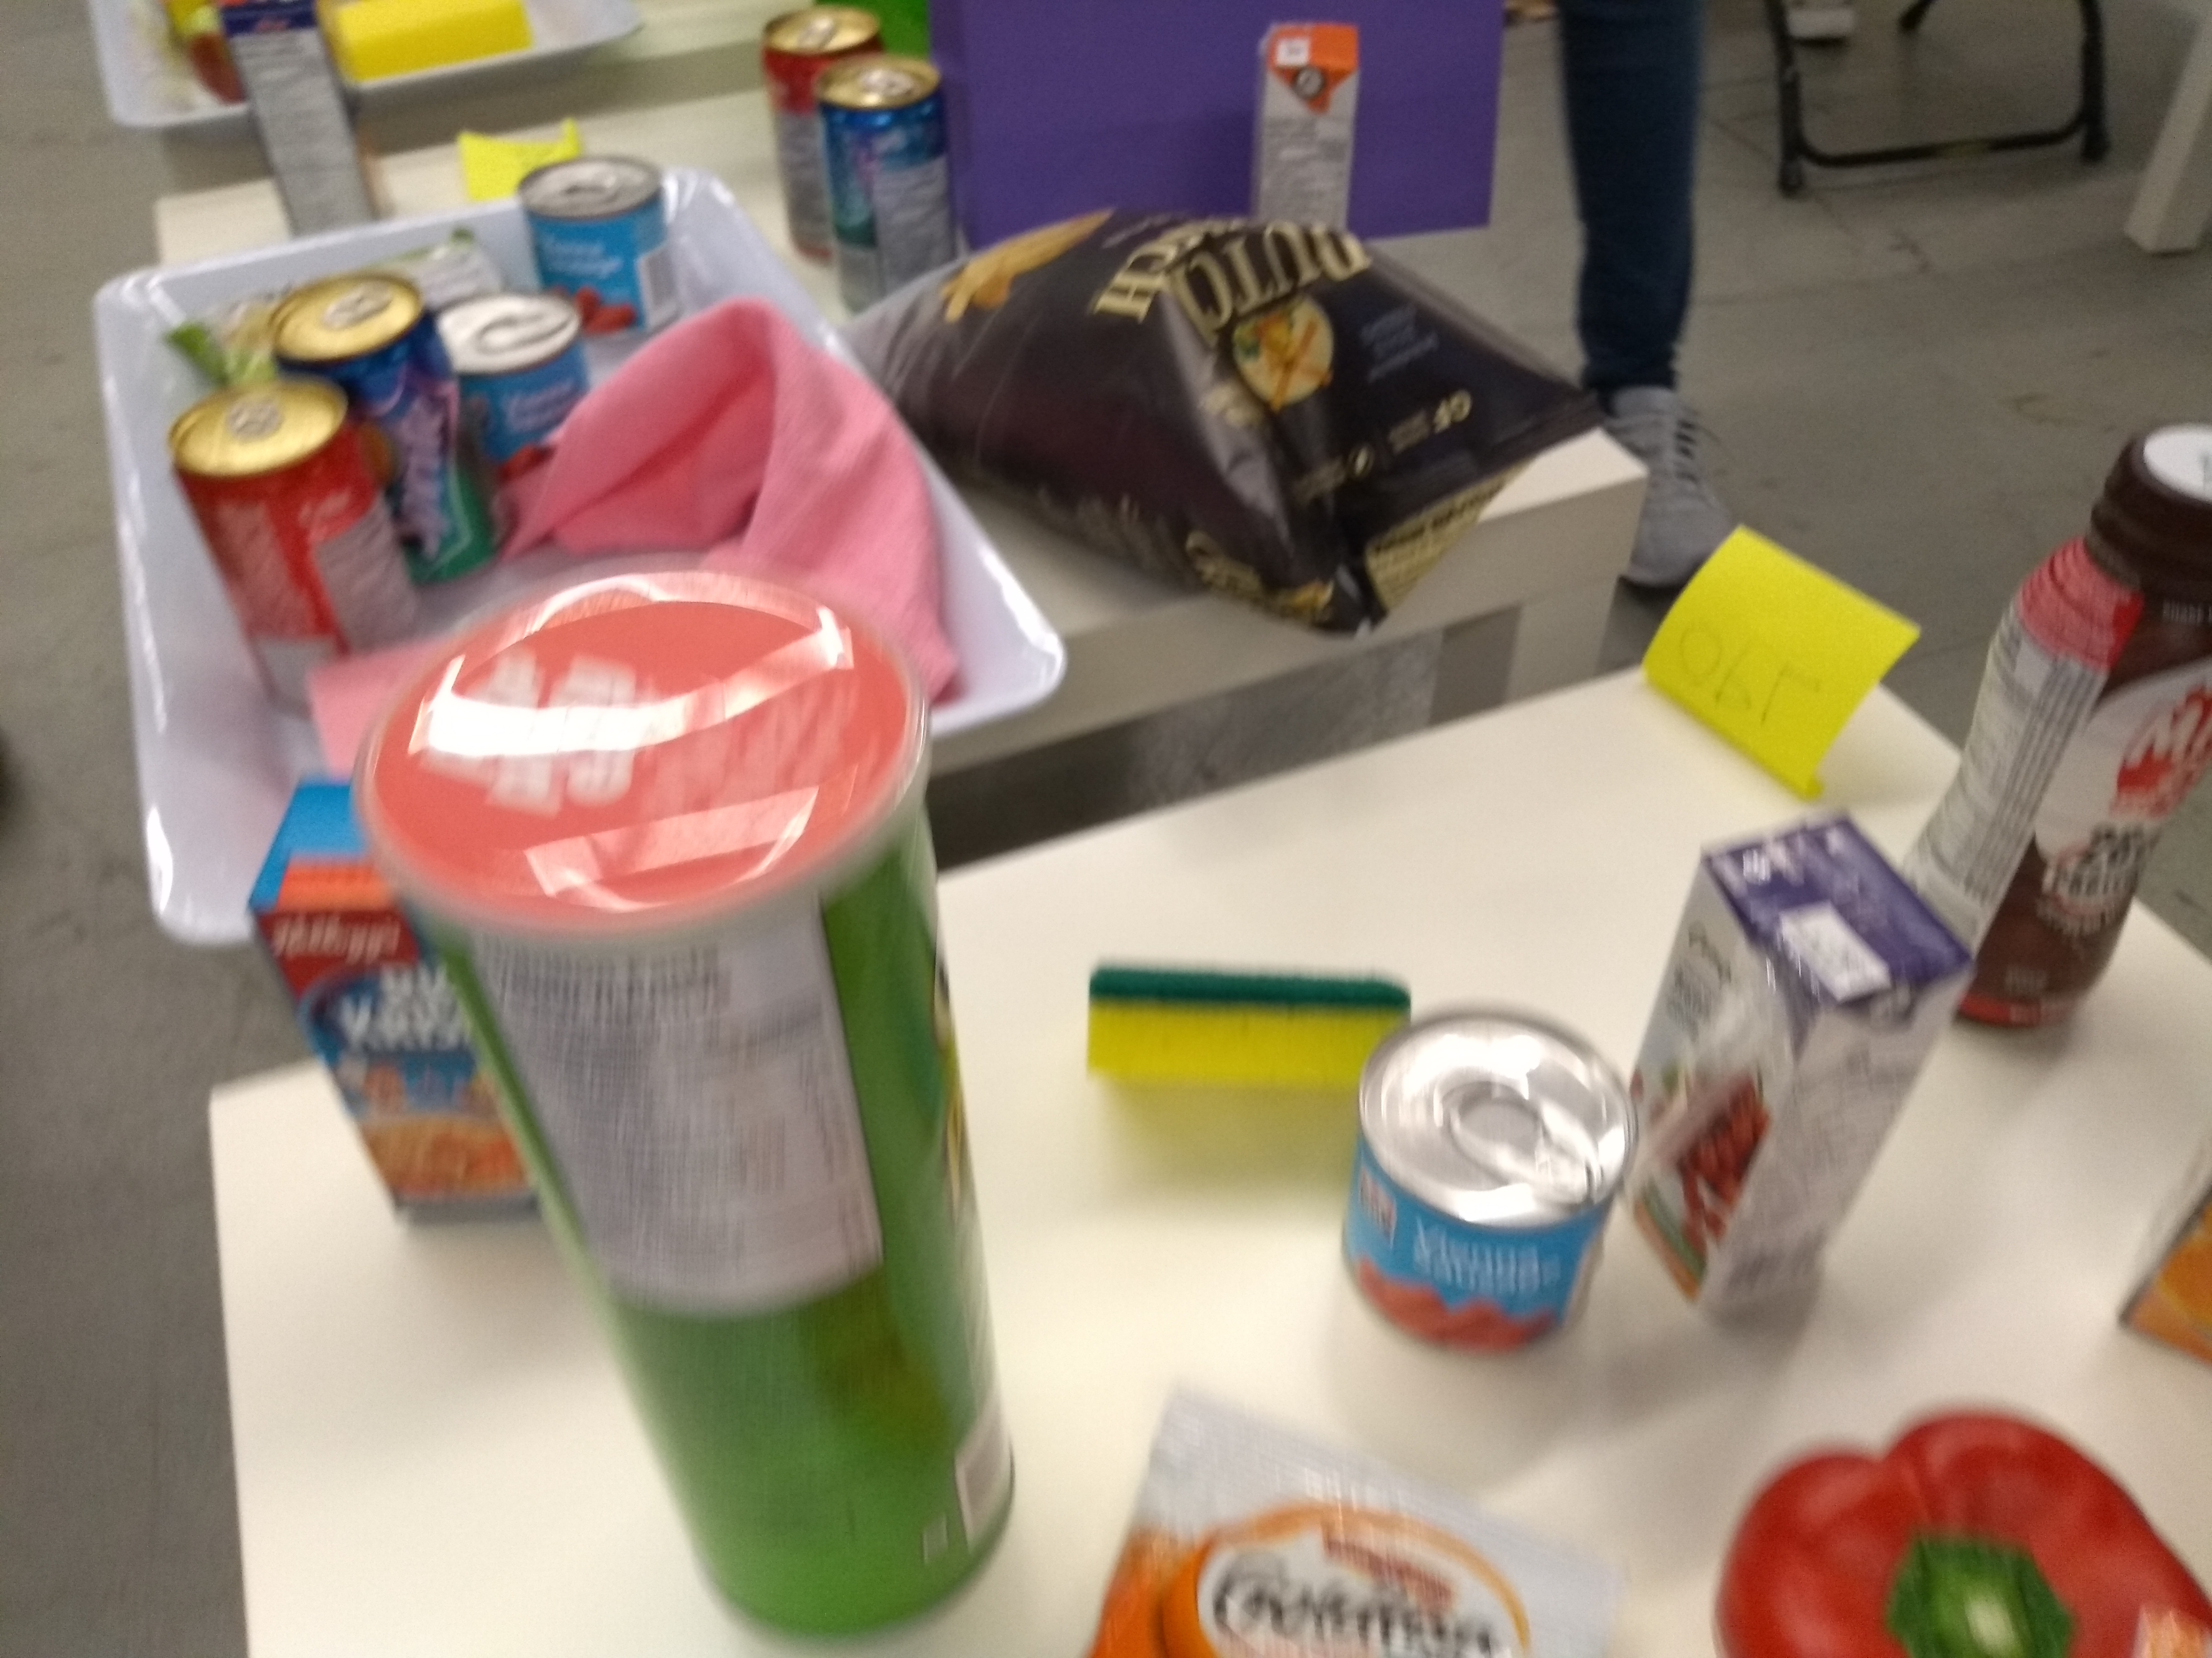cereal: (251, 773, 543, 1235)
chocolate_drink: (1914, 411, 2212, 1069)
coke: (165, 381, 409, 712)
crackers: (1069, 1379, 1632, 1658)
grape_juice: (1629, 798, 1980, 1345)
paprika: (1700, 1392, 2212, 1653)
potato_chips: (834, 197, 1616, 658)
pringles: (352, 556, 1038, 1644)
sausages: (1320, 1001, 1646, 1367), (507, 150, 690, 345), (416, 298, 601, 467)
scrubby: (1062, 944, 1430, 1111)
sprite: (265, 277, 500, 578)
